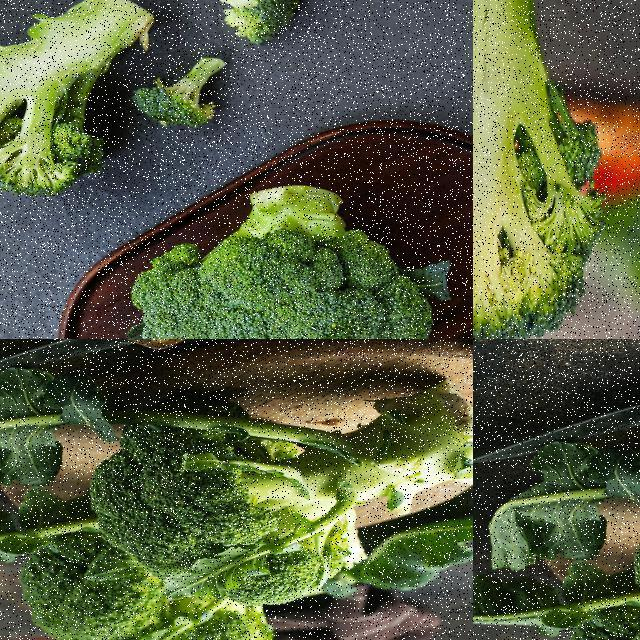broccoli: (83, 368, 472, 607), (131, 184, 439, 338), (473, 0, 606, 338), (0, 0, 161, 195), (9, 526, 277, 639), (136, 56, 227, 130), (190, 0, 312, 44)
